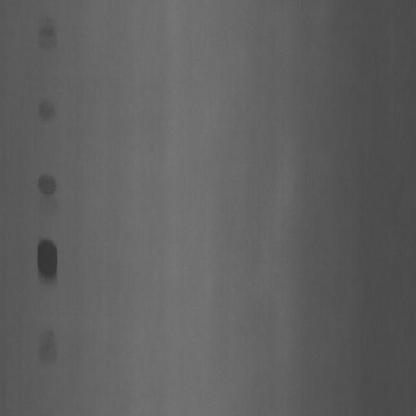oil_spot: (33, 228, 66, 296), (33, 8, 63, 53), (36, 326, 62, 368), (36, 89, 62, 127), (37, 166, 62, 204)
